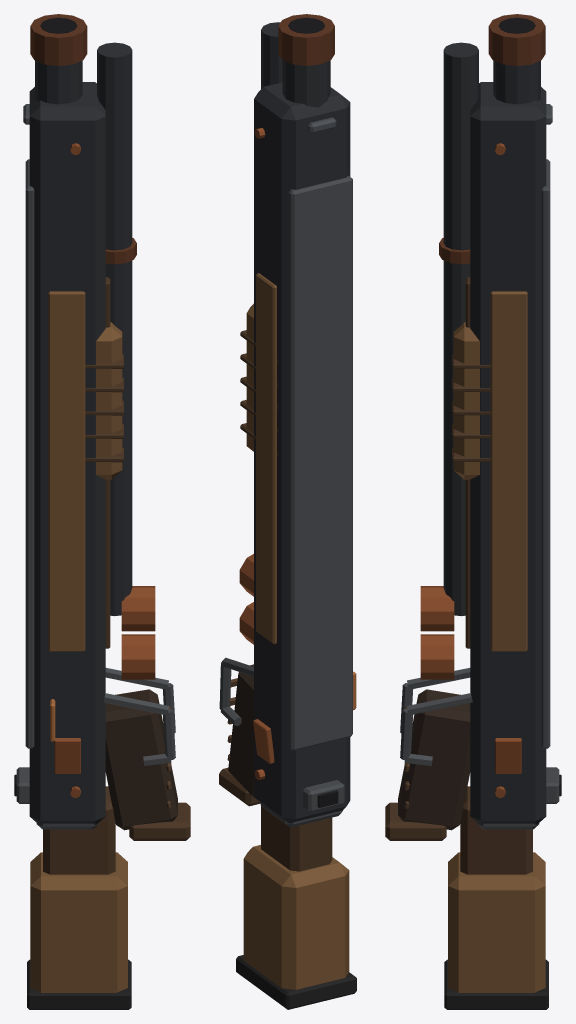
Rendered from weapon_shotgun.fbx.
The picture shows the model from 3 angles, left to right: view 1: azimuth 90°, elevation 25°; view 2: azimuth 210°, elevation 25°; view 3: azimuth 270°, elevation 25°; orthographic projection.
Parts seen in each view (by area): view 1: weapon_shotgun; view 2: weapon_shotgun; view 3: weapon_shotgun.
Part boxes in pixels (<box>): weapon_shotgun: <box>14,14,190,1009</box>; weapon_shotgun: <box>219,14,356,1009</box>; weapon_shotgun: <box>385,14,561,1009</box>.
Bounding box in the file's own units: 0.1161 × 1.2 × 0.1985.
